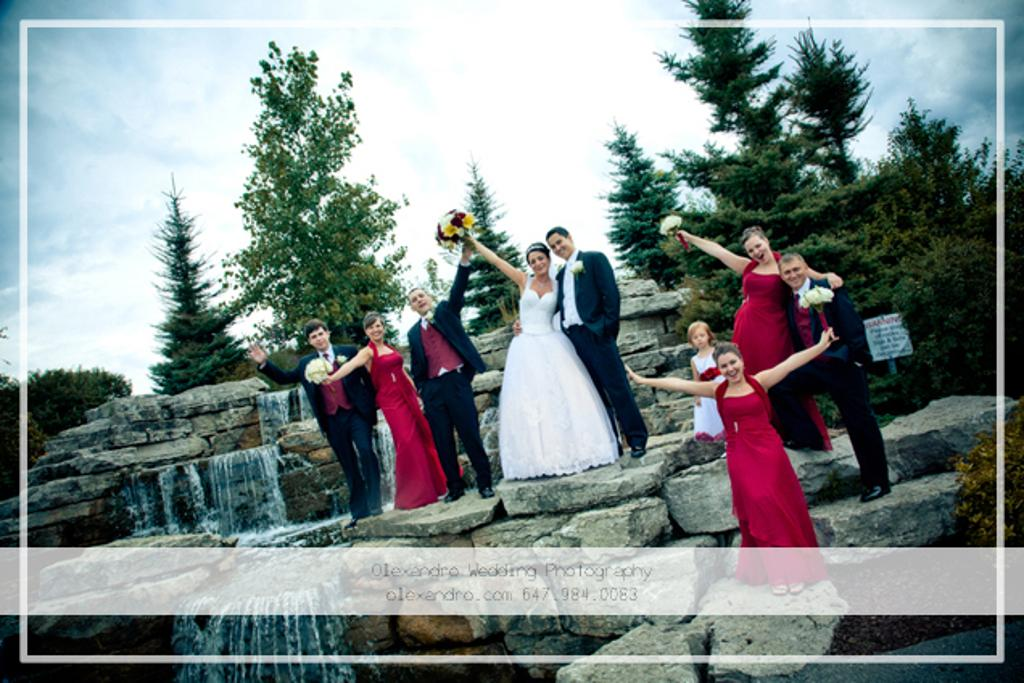face: (718, 352, 742, 382), (745, 236, 769, 263), (782, 258, 804, 286), (528, 248, 549, 274), (548, 235, 571, 257), (308, 326, 328, 349), (410, 289, 429, 313), (691, 326, 708, 348), (367, 318, 383, 340)
